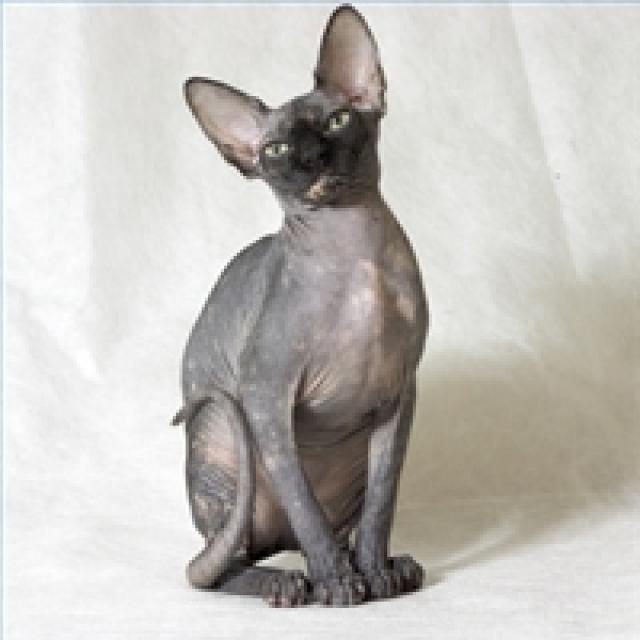Sphynx: (175, 0, 391, 206)
